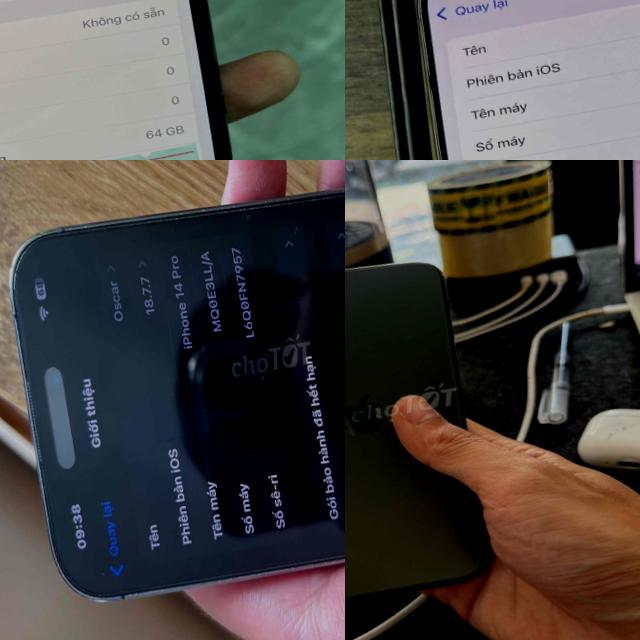gen_11: (345, 263, 483, 599)
gen_14: (0, 160, 345, 625)
gen_16: (417, 0, 640, 160)
gen_x_xs: (0, 0, 269, 160)
scratch: (102, 167, 345, 245), (105, 574, 160, 602)
